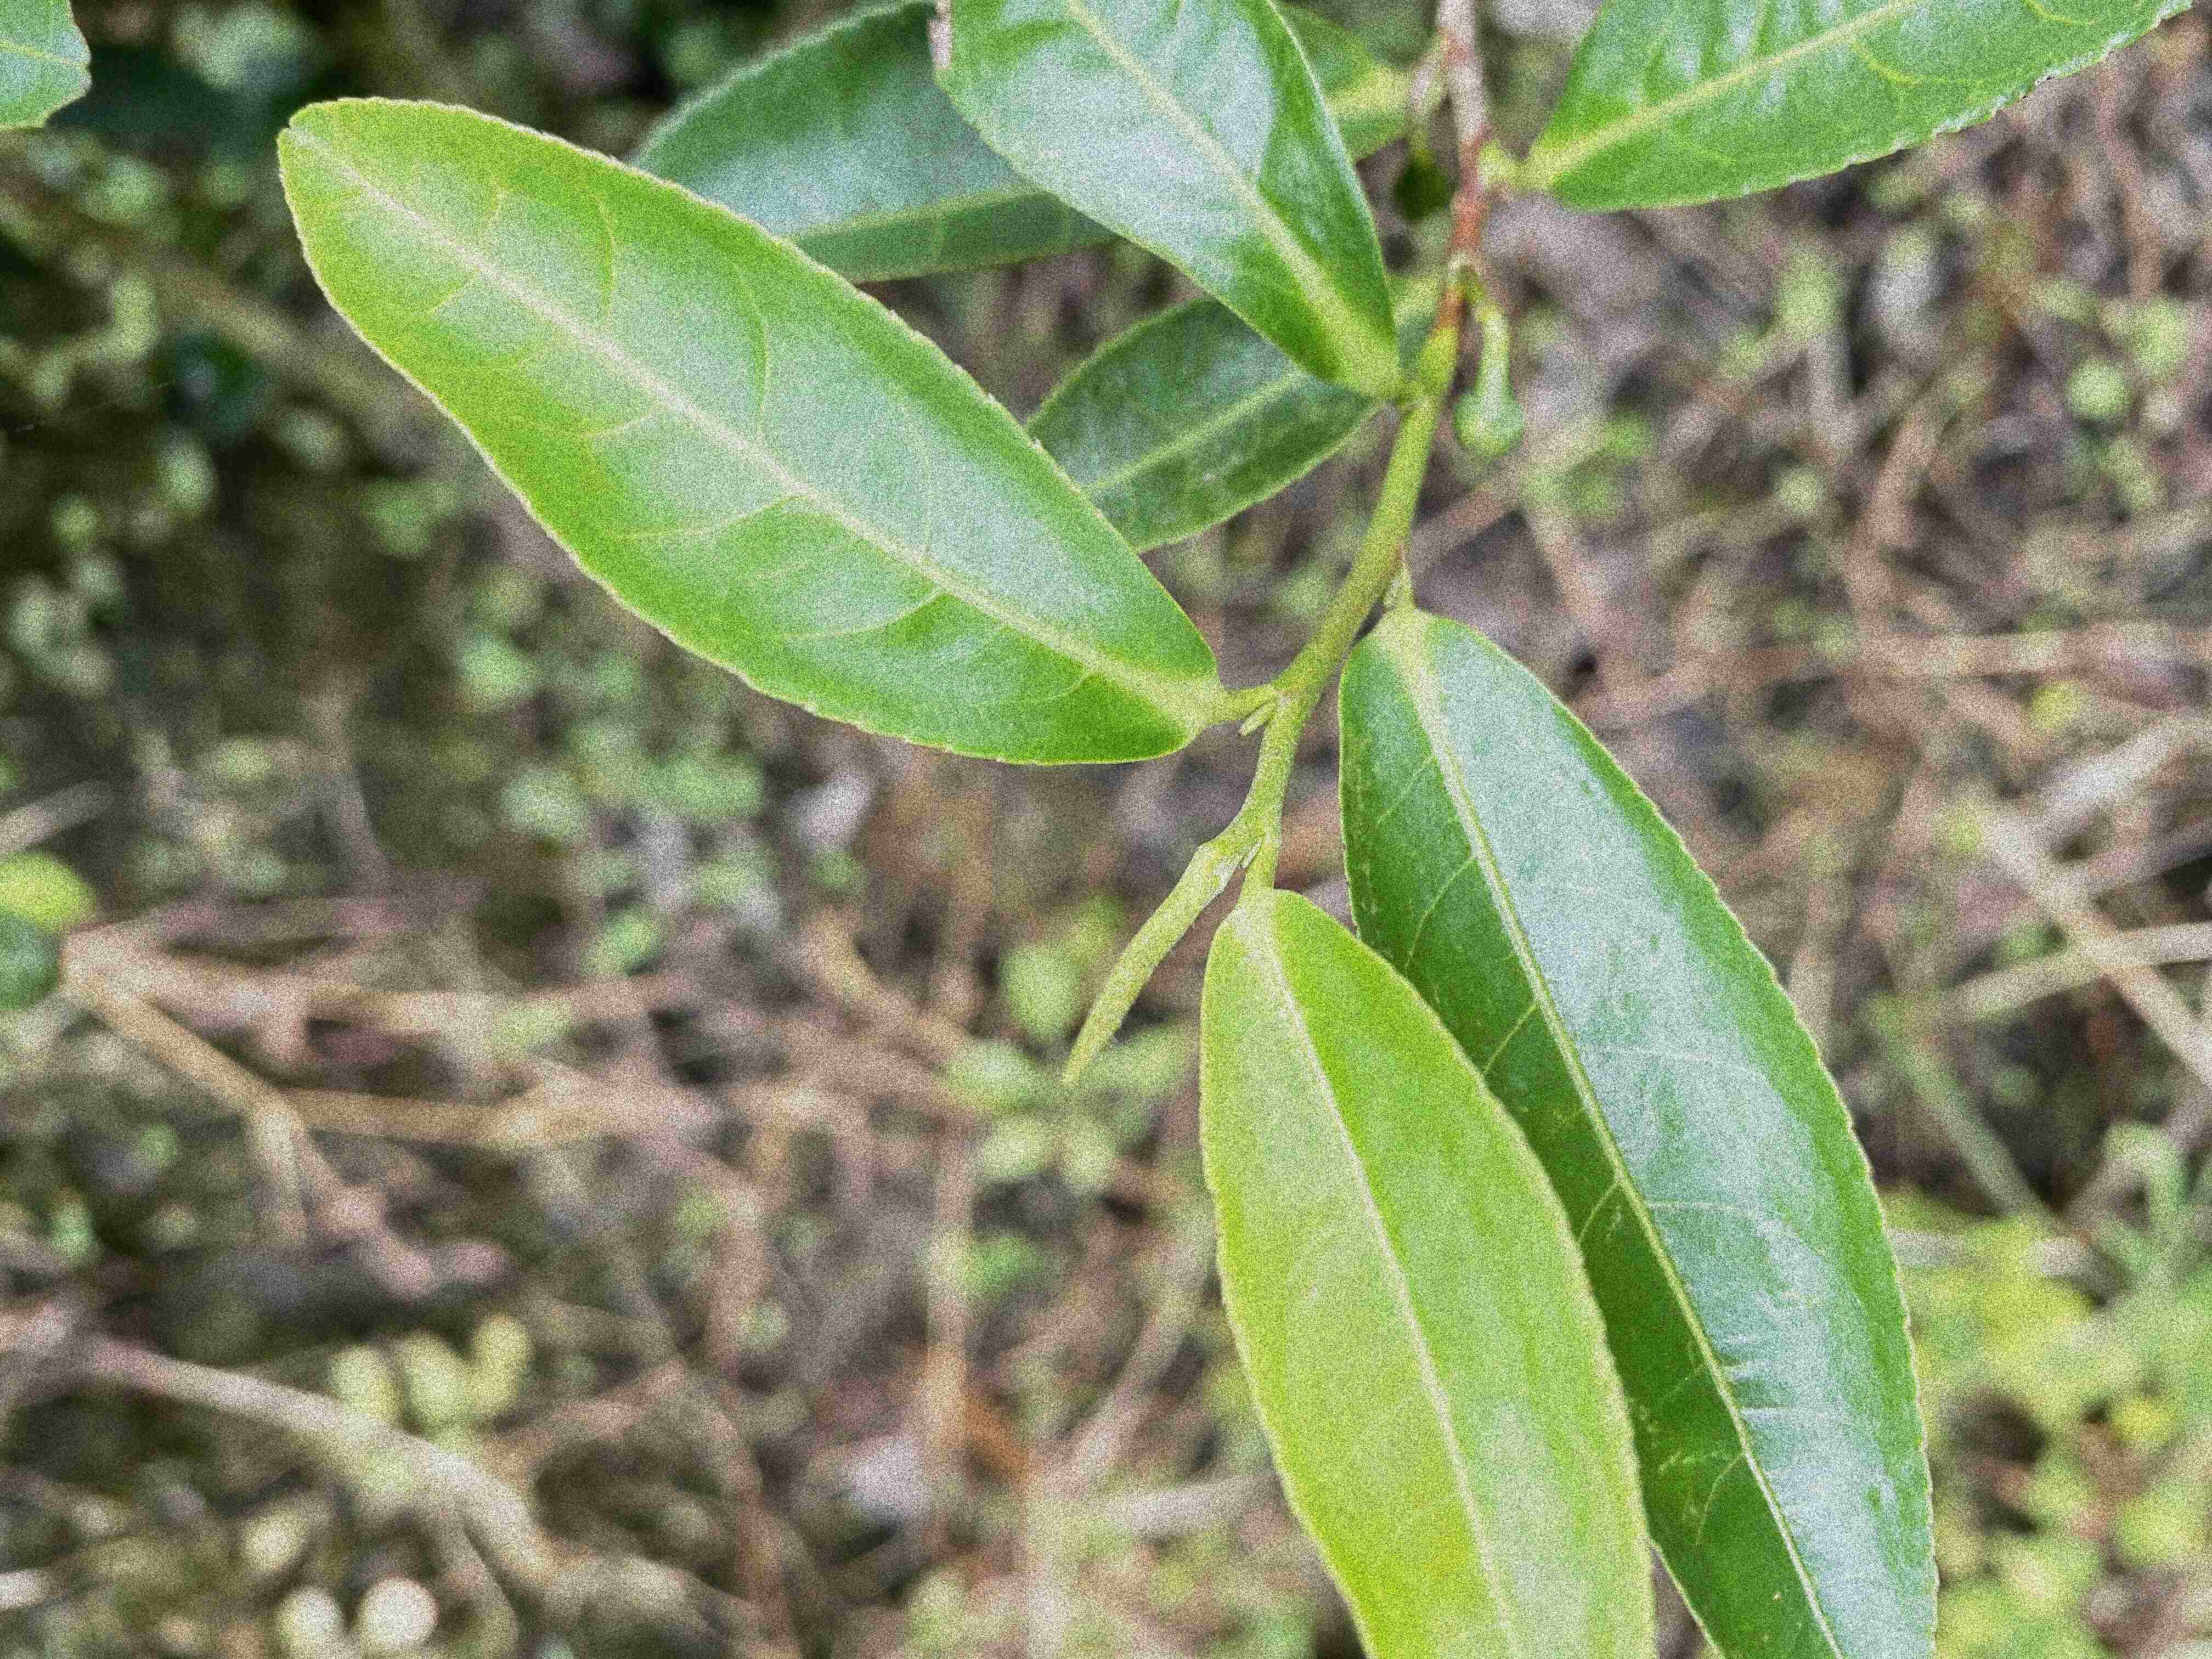healthy: (1334, 605, 1940, 1657), (273, 99, 1216, 770), (1191, 873, 1662, 1656), (1529, 2, 2202, 216)
